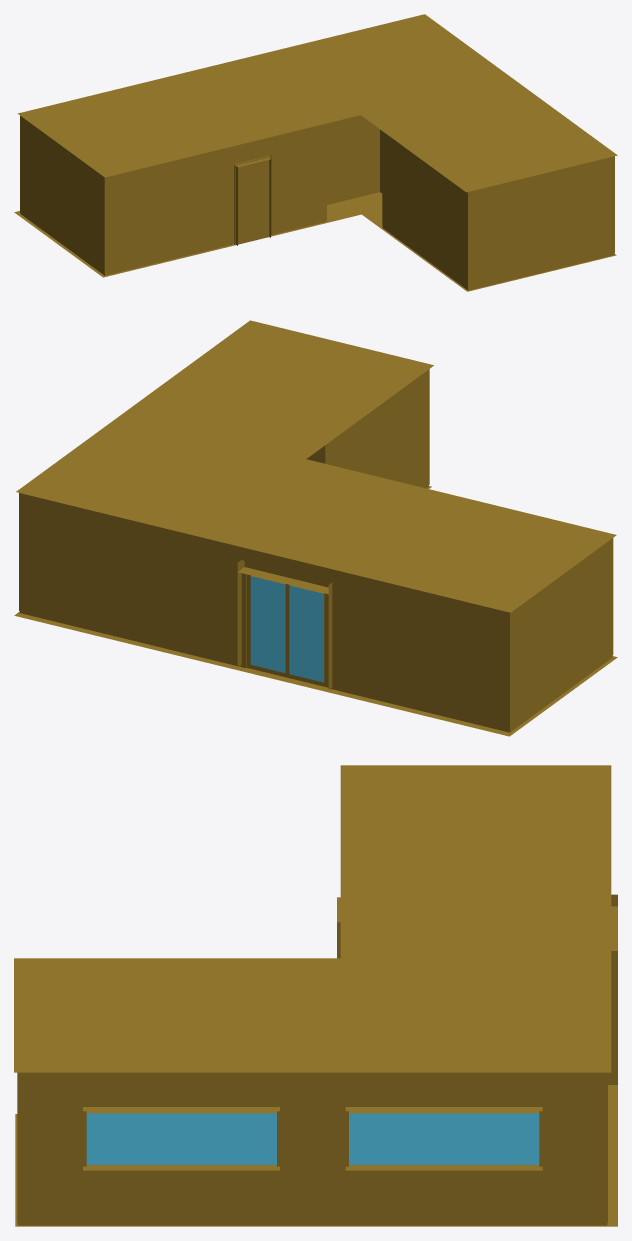
The model's file is WaitingRoom.fbx.
3 renders of one model, top to bottom at view 1: azimuth 30°, elevation 25°; view 2: azimuth 150°, elevation 25°; view 3: azimuth 270°, elevation 25°, orthographic. The views are drawn at different scales.
Parts seen in each view (by area): view 1: WaitingRoom1; view 2: WaitingRoom1; view 3: WaitingRoom1.
Boxes of the visible parts, left/top/right/bottom form: WaitingRoom1: left=14, top=14, right=617, bottom=291; WaitingRoom1: left=14, top=320, right=617, bottom=736; WaitingRoom1: left=14, top=765, right=617, bottom=1226.
Bounding box in the file's own units: 11.22 × 2.6 × 9.2.
